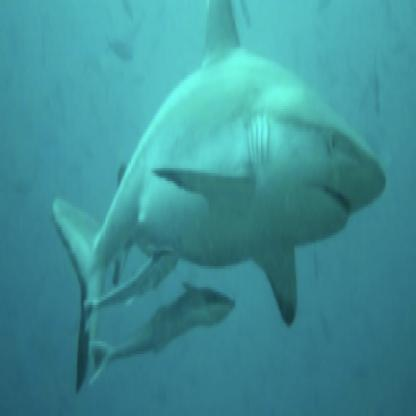shark: (51, 1, 387, 389)
